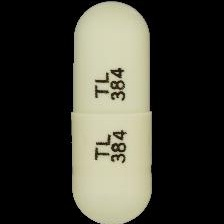21695-812: (0, 0, 224, 224)
